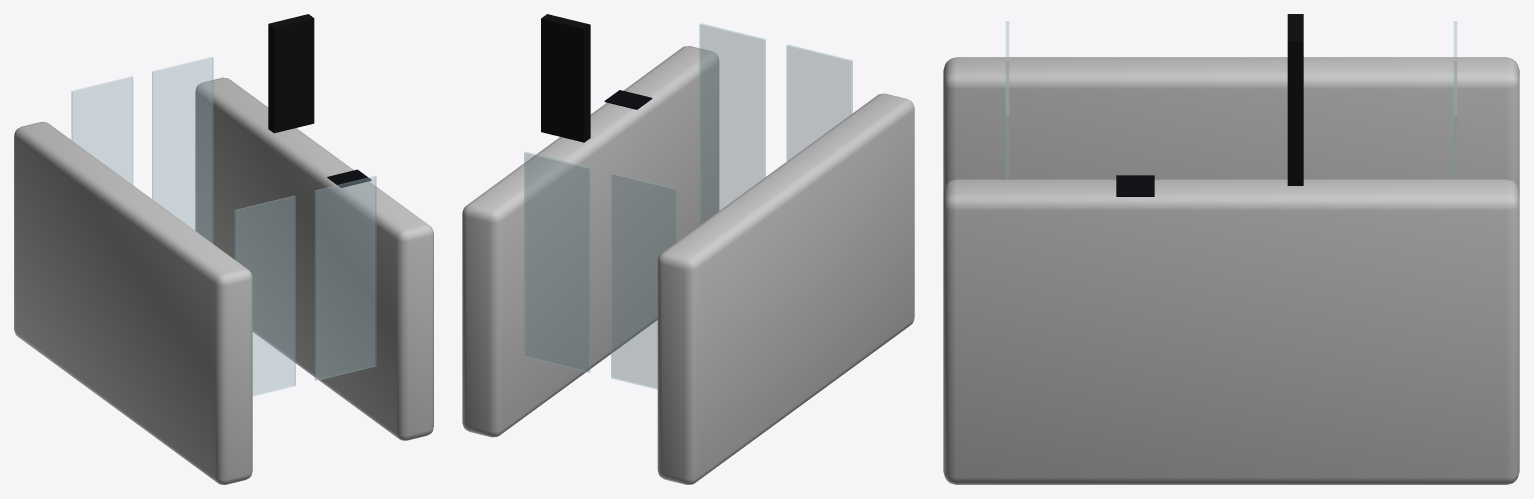
The model's file is airport.security.egate.glb.
The picture shows the model from 3 angles, left to right: view 1: azimuth 30°, elevation 25°; view 2: azimuth 150°, elevation 25°; view 3: azimuth 270°, elevation 25°; orthographic projection. The views are drawn at different scales.
Parts seen in each view (by area): view 1: main__steel_stainless, main__glass, main__plastic_black, main__screen; view 2: main__steel_stainless, main__glass, main__plastic_black, main__screen; view 3: main__steel_stainless, main__plastic_black, main__glass, main__screen.
Part boxes in pixels (left/top/right/bottom): main__steel_stainless: left=14, top=77, right=433, bottom=484; main__glass: left=71, top=57, right=376, bottom=395; main__plastic_black: left=268, top=14, right=314, bottom=133; main__screen: left=327, top=169, right=371, bottom=187; main__steel_stainless: left=462, top=46, right=914, bottom=484; main__glass: left=524, top=23, right=852, bottom=389; main__plastic_black: left=541, top=14, right=590, bottom=142; main__screen: left=604, top=90, right=652, bottom=109; main__steel_stainless: left=943, top=57, right=1519, bottom=484; main__plastic_black: left=1287, top=14, right=1303, bottom=185; main__glass: left=1005, top=21, right=1457, bottom=178; main__screen: left=1116, top=175, right=1154, bottom=196.
Bounding box in the file's own units: 1.09 × 1.55 × 1.8.
